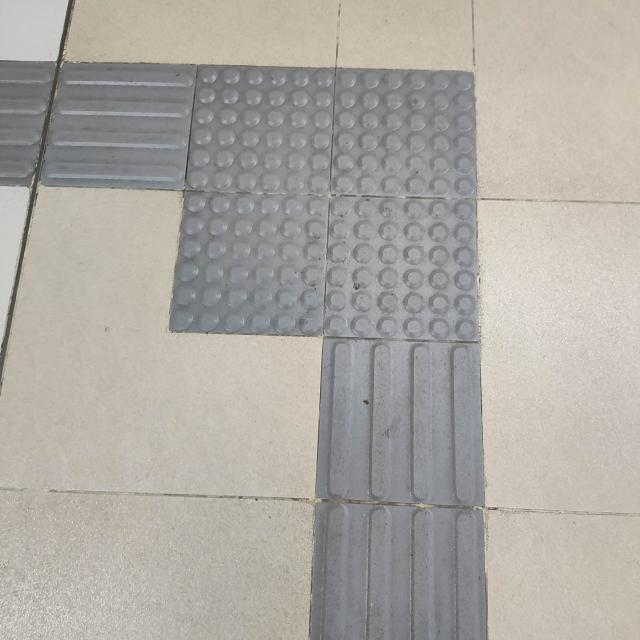kiri: (22, 34, 561, 415)
